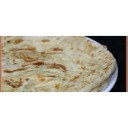parota: (1, 36, 116, 92)
